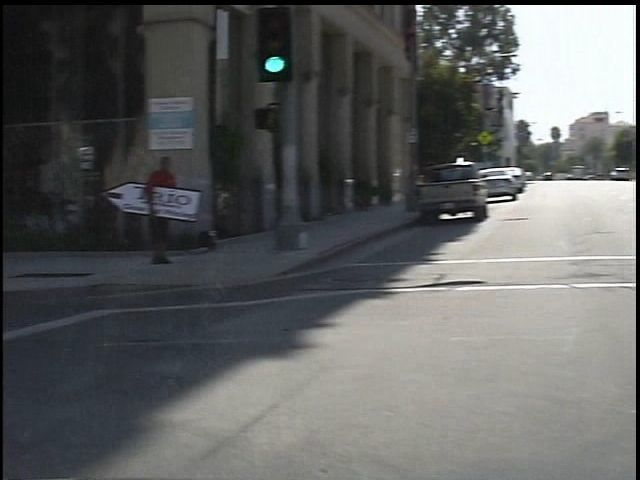person: (134, 154, 175, 274)
